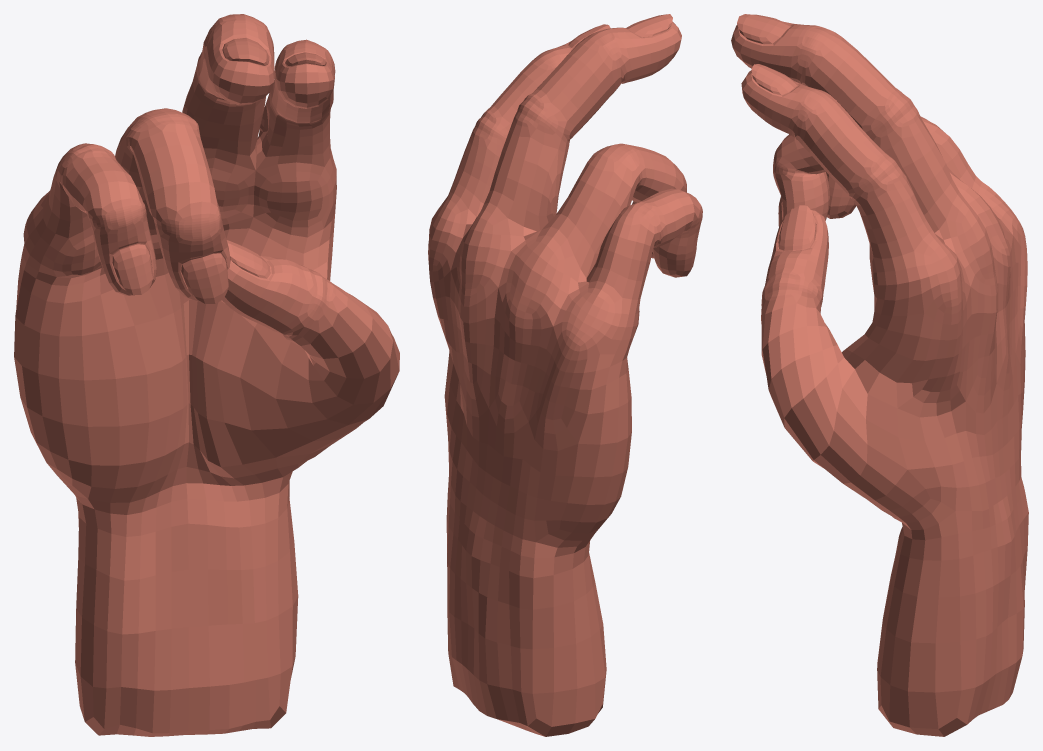
File: zhaal.glb
The picture shows the model from 3 angles, left to right: view 1: azimuth 30°, elevation 25°; view 2: azimuth 150°, elevation 25°; view 3: azimuth 270°, elevation 25°; orthographic projection. The views are drawn at different scales.
Parts seen in each view (by area): view 1: ZBrushPolyMesh3D; view 2: ZBrushPolyMesh3D; view 3: ZBrushPolyMesh3D.
Boxes of the visible parts, box(x1,y1,x2,y2) form: ZBrushPolyMesh3D: box(14, 14, 399, 736); ZBrushPolyMesh3D: box(428, 14, 702, 736); ZBrushPolyMesh3D: box(731, 14, 1028, 736).
Size of the model in its own units: 1.9 by 4.81 by 1.94.
